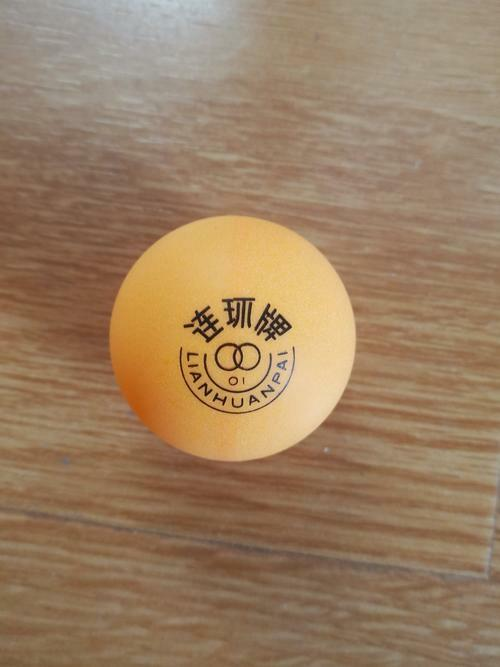ball: (99, 206, 364, 470)
